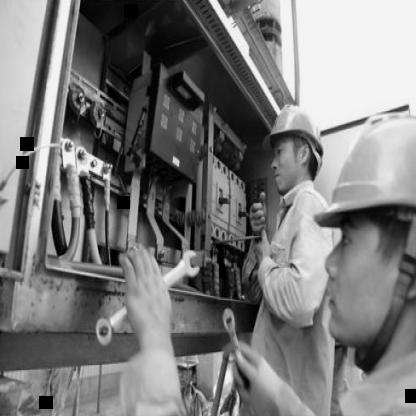helmet: (320, 103, 416, 349), (260, 95, 326, 196)
